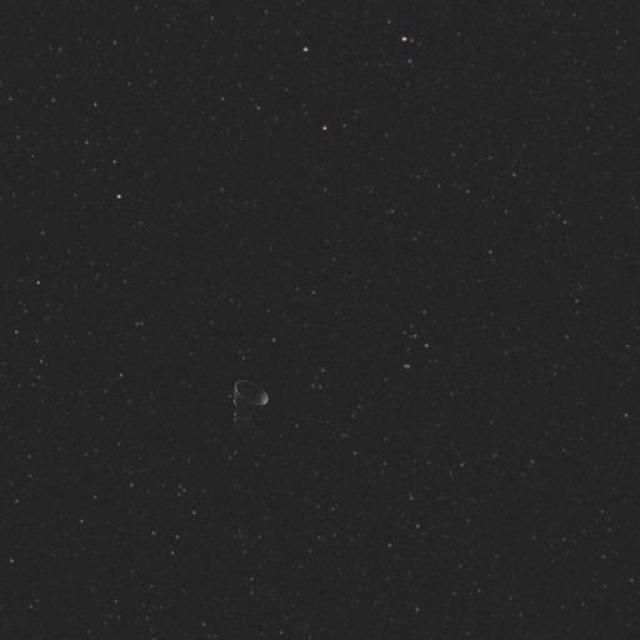debris: (207, 356, 285, 424)
